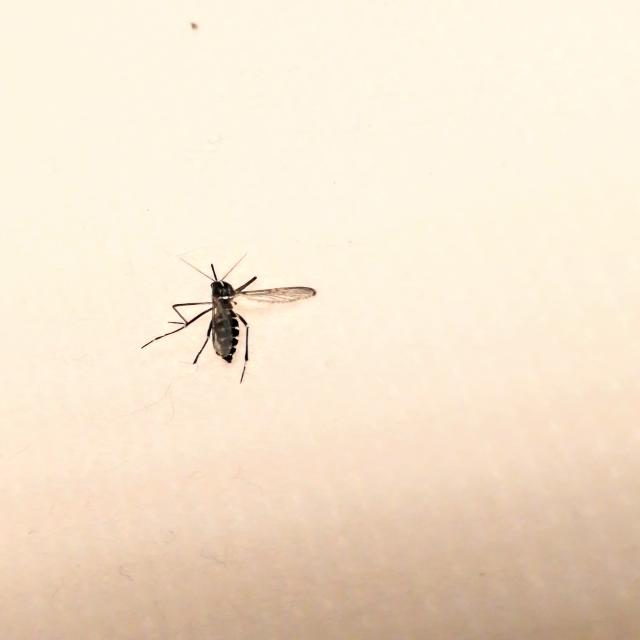albopictus: (135, 240, 309, 388)
